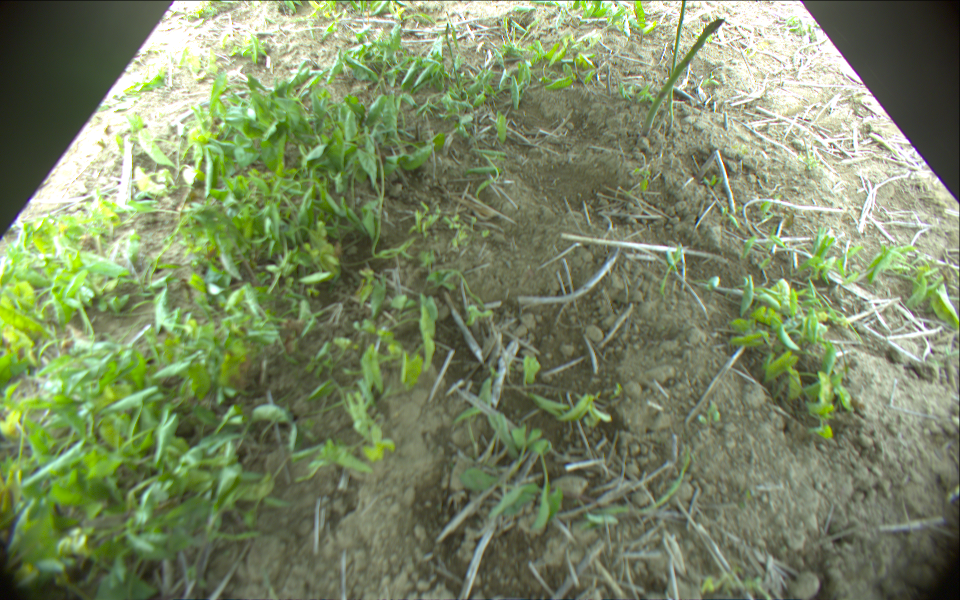aspa: (639, 18, 725, 137), (670, 1, 688, 135), (444, 24, 458, 83)
